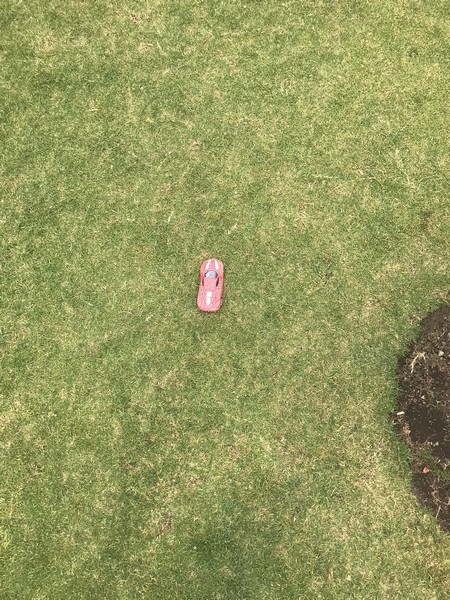RC: (196, 257, 225, 315)
